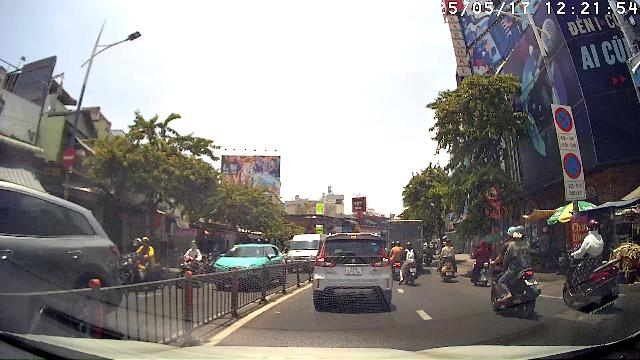130-cam-dung-va-do-xe: (554, 106, 574, 132)
131a-cam-do-xe: (562, 151, 582, 179)
